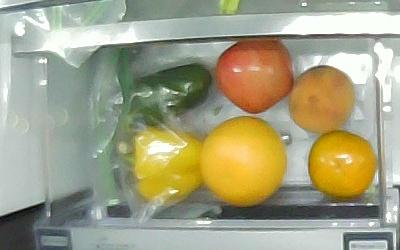apple: (217, 38, 294, 114)
grapefruit: (200, 116, 287, 207)
paprika_vinyl: (126, 63, 213, 127), (134, 127, 200, 207)
peach: (289, 65, 355, 134)
persimmon: (309, 130, 377, 199)
